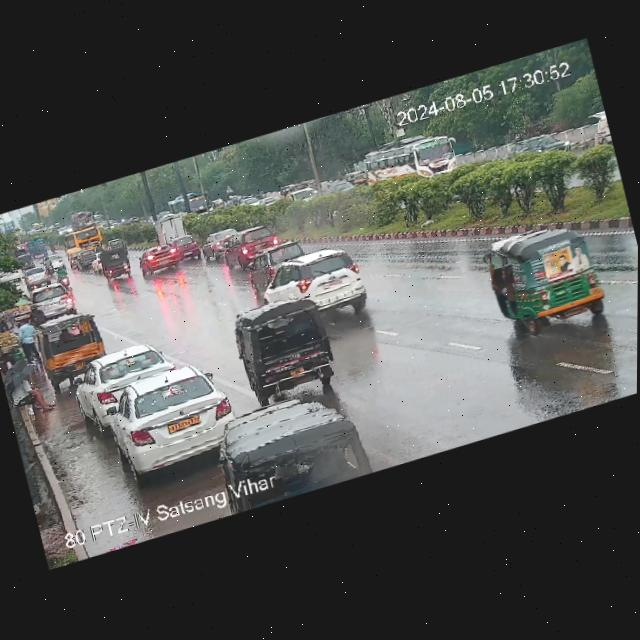bus: (352, 122, 463, 198), (166, 187, 215, 225), (60, 221, 110, 256), (67, 207, 98, 233)
car: (209, 383, 373, 516), (98, 356, 245, 487), (478, 207, 614, 343), (234, 294, 342, 407), (257, 236, 383, 329), (69, 335, 178, 419), (35, 308, 113, 388), (242, 236, 308, 295), (223, 220, 290, 271), (505, 125, 575, 167), (25, 278, 78, 324), (137, 238, 184, 280), (93, 243, 135, 279), (200, 225, 241, 260), (167, 232, 200, 260), (74, 245, 107, 272), (284, 183, 319, 207), (340, 167, 368, 192), (21, 264, 50, 288), (42, 252, 66, 273), (326, 179, 352, 195), (64, 246, 79, 270), (258, 193, 280, 208), (105, 235, 125, 250), (303, 175, 320, 192)
motorcycle: (56, 264, 71, 286), (43, 255, 56, 275), (48, 240, 56, 253)
person: (3, 366, 49, 424), (12, 314, 42, 365)
truck: (153, 211, 195, 246)
